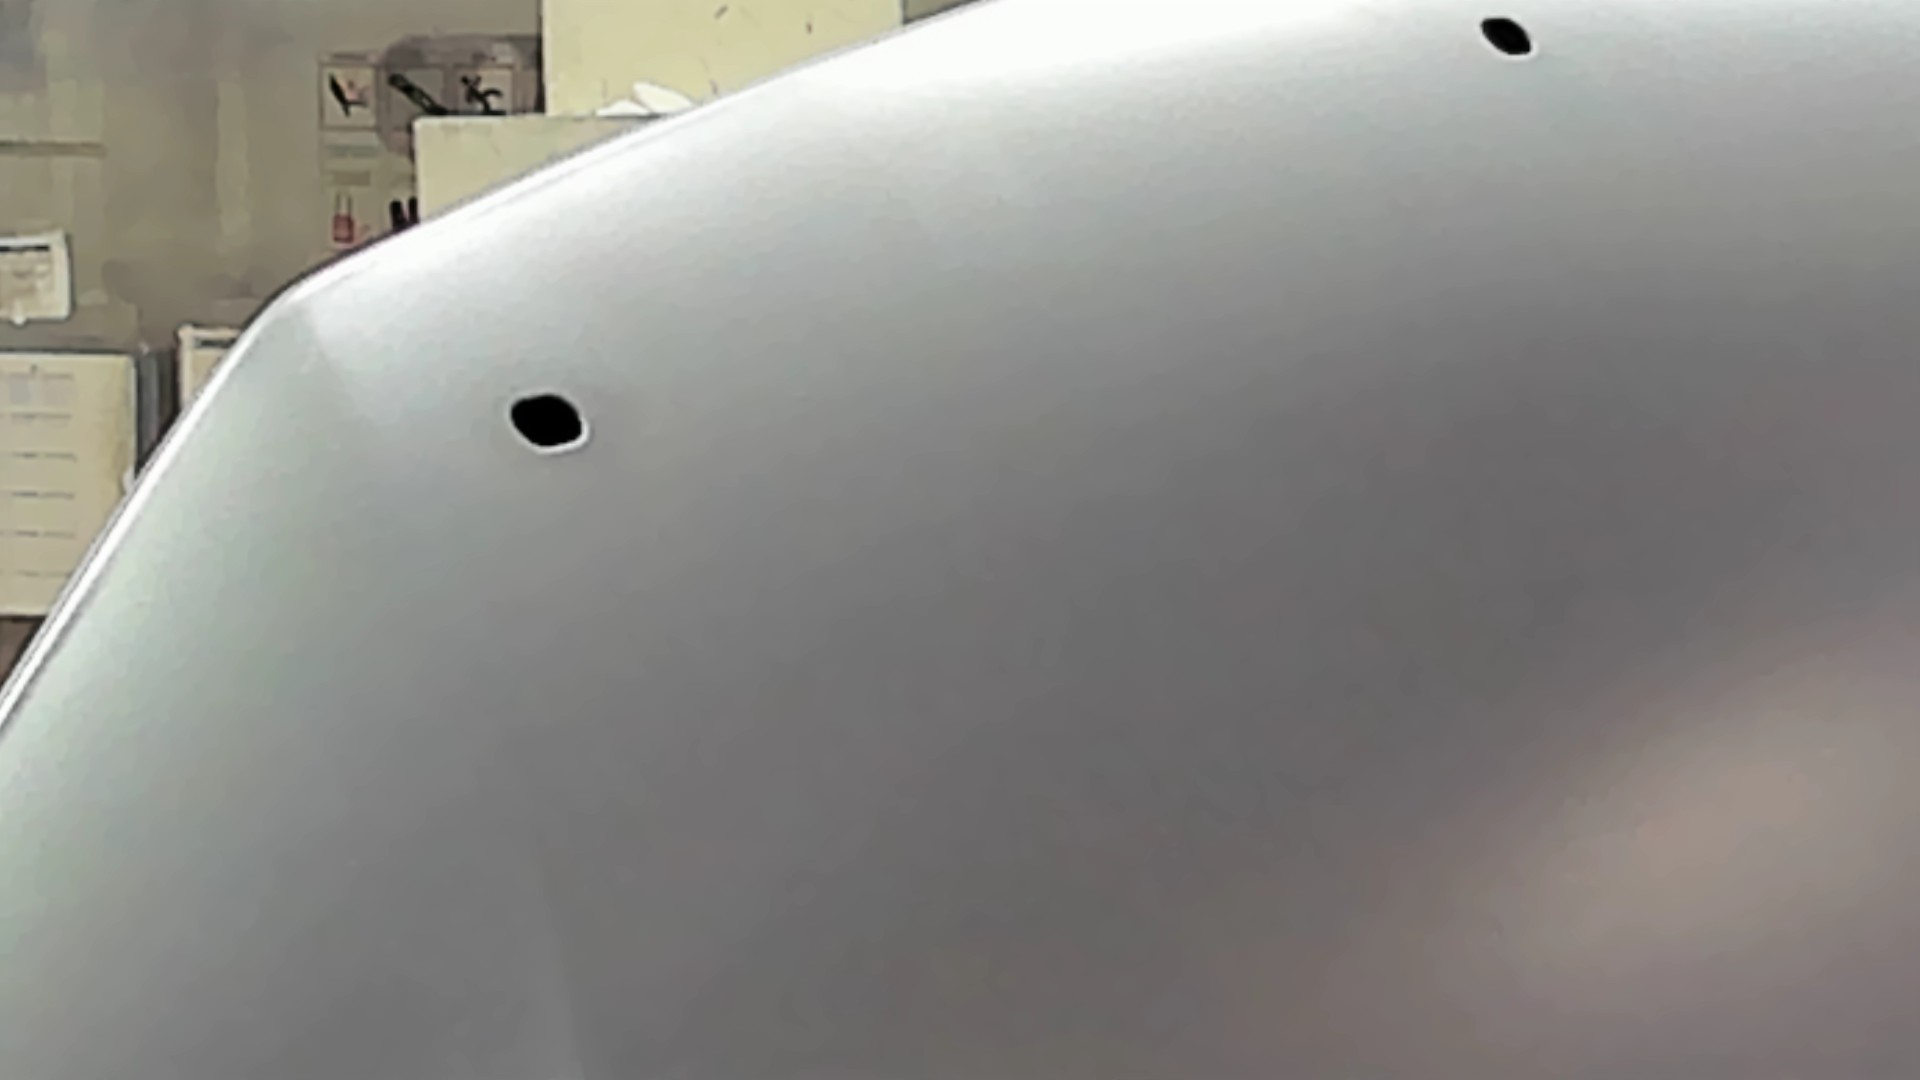amorfo: (496, 377, 604, 464), (1468, 9, 1553, 79)
capo: (720, 138, 1920, 1080)
